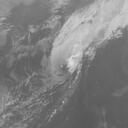cyclone: (49, 30, 86, 82)
